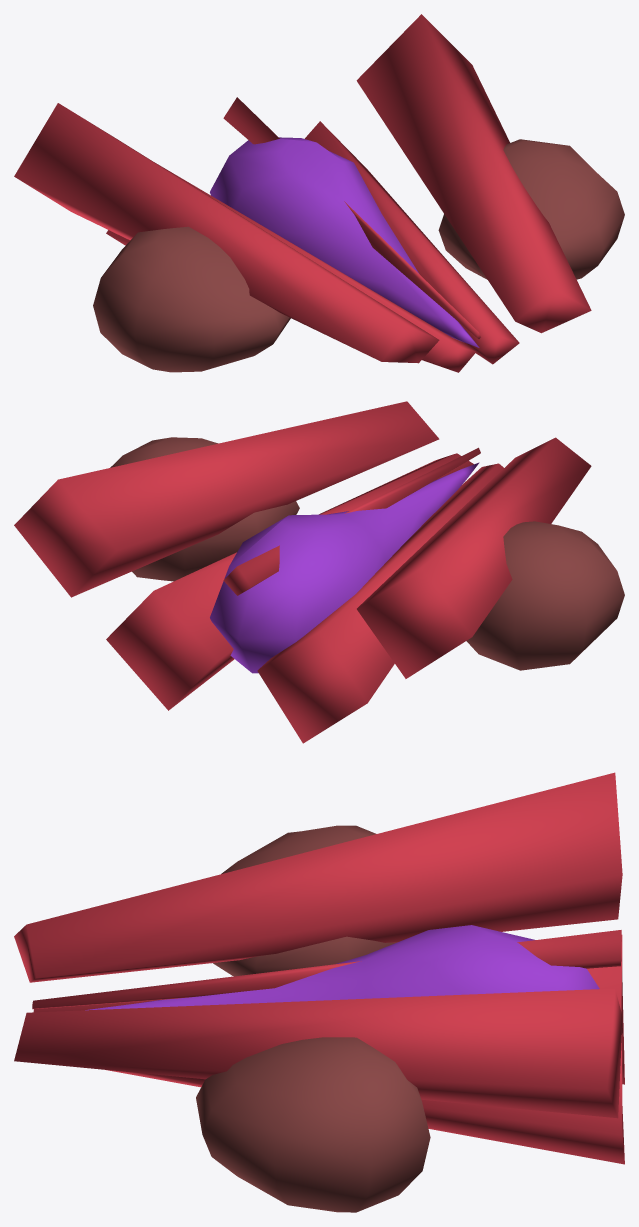
Rendered from ship_24.gltf.
3 renders of one model, top to bottom at view 1: azimuth 30°, elevation 25°; view 2: azimuth 150°, elevation 25°; view 3: azimuth 270°, elevation 25°, orthographic. The views are drawn at different scales.
Parts seen in each view (by area): view 1: gtlf; view 2: gtlf; view 3: gtlf.
Boxes of the visible parts, box(x1,y1,x2,y2) form: gtlf: box(14, 14, 624, 372); gtlf: box(14, 401, 624, 743); gtlf: box(14, 772, 624, 1212).
Bounding box in the file's own units: 1.15 × 0.4478 × 1.02.
